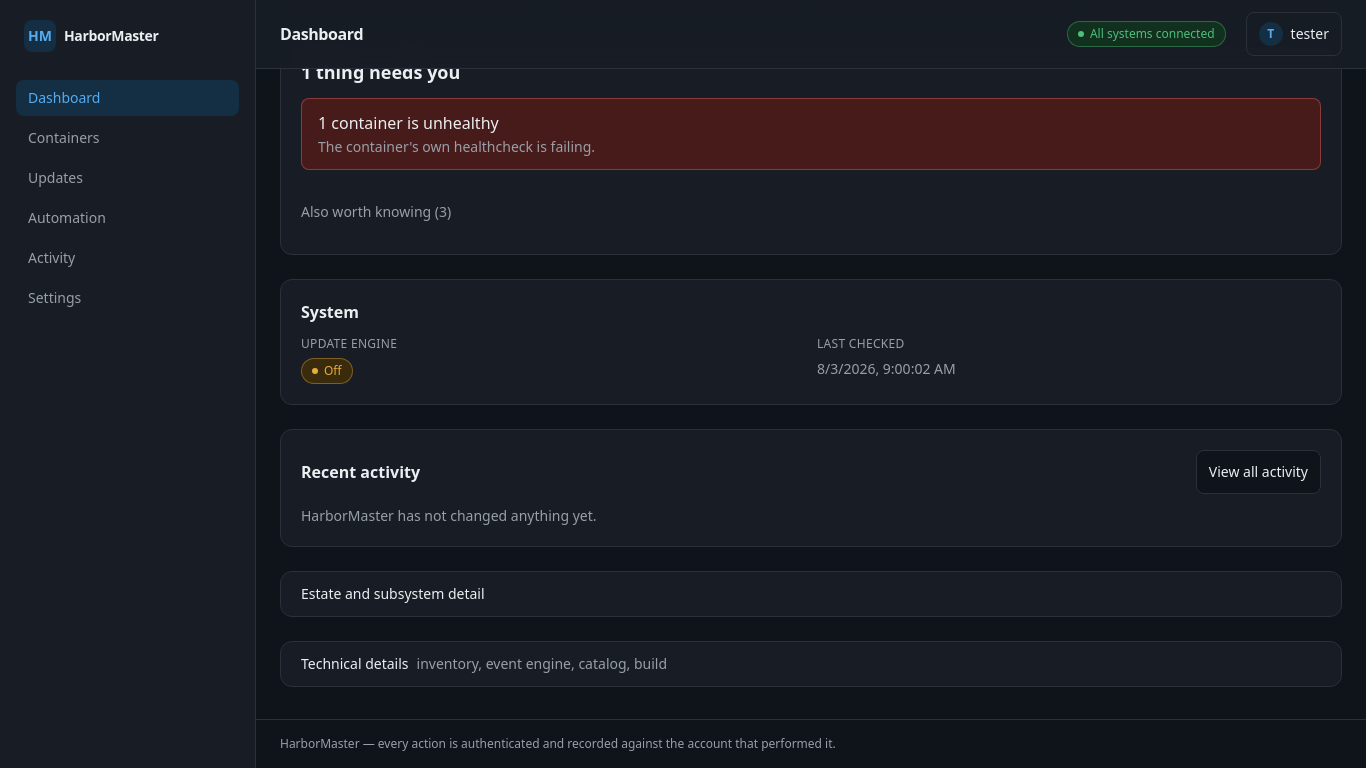
Test: Dashboard › renders live inventory metrics
(page scrolled)
Click the heading "Technical details inventory, event engine, catalog, build" at (484, 664), box left=301, top=654, right=667, bottom=673
(page scrolled)
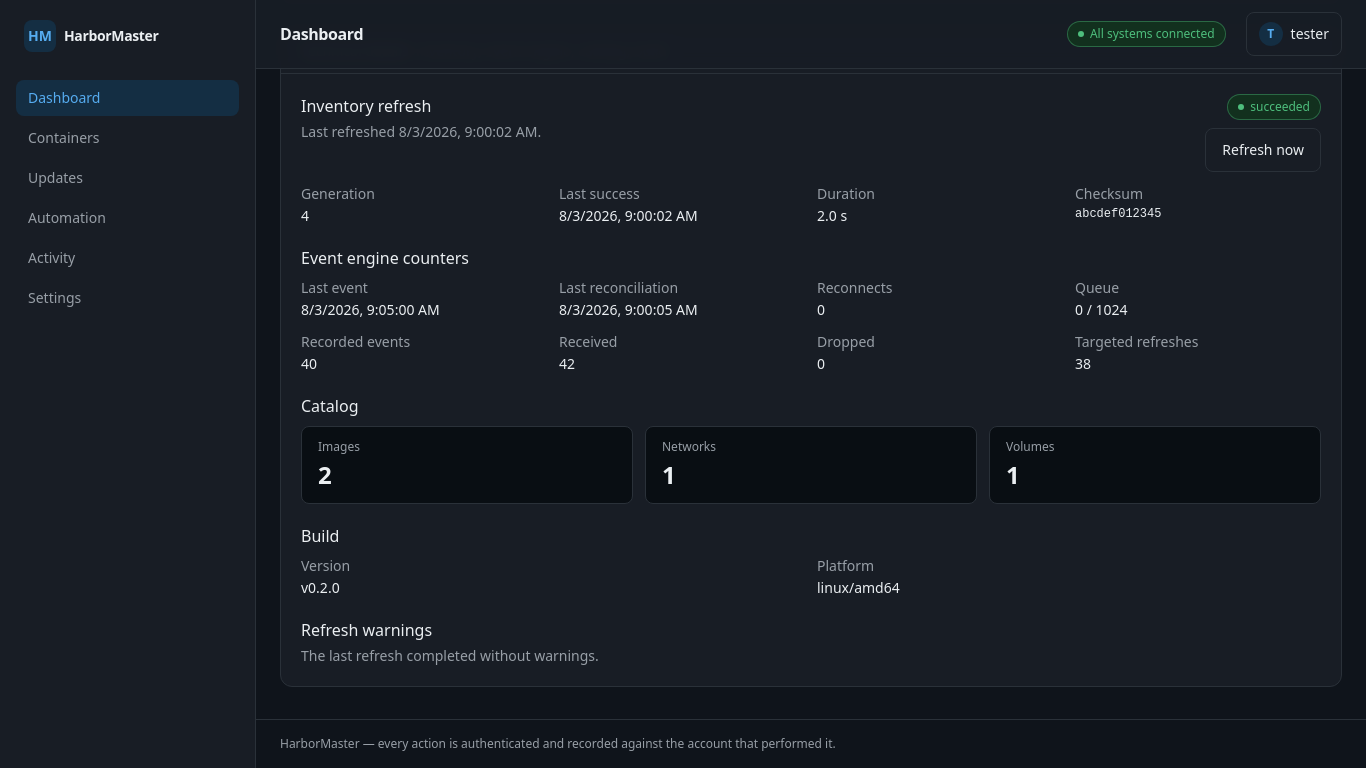
Check: the text "2" is shown, box left=318, top=458, right=332, bottom=491
Check: the text "1" below "Volumes" is shown, box left=1006, top=458, right=1020, bottom=491
